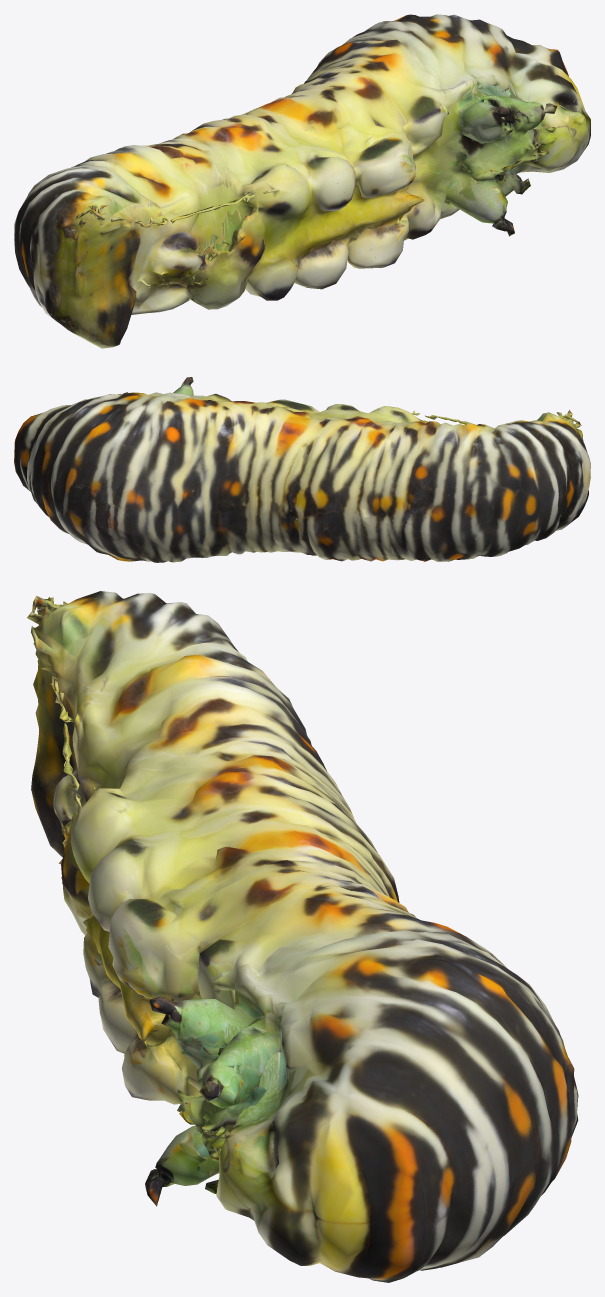
Rendered from oruga.glb.
3 renders of one model, top to bottom at view 1: azimuth 30°, elevation 25°; view 2: azimuth 150°, elevation 25°; view 3: azimuth 270°, elevation 25°, orthographic. The views are drawn at different scales.
Parts seen in each view (by area): view 1: Mesh_0; view 2: Mesh_0; view 3: Mesh_0.
Boxes of the visible parts, x1,y1,x2,y2 form: Mesh_0: (14, 14, 590, 348); Mesh_0: (14, 377, 590, 562); Mesh_0: (27, 591, 578, 1282).
Size of the model in its own units: 5.26 by 1.63 by 2.53.
2 materials, 1 textured.
